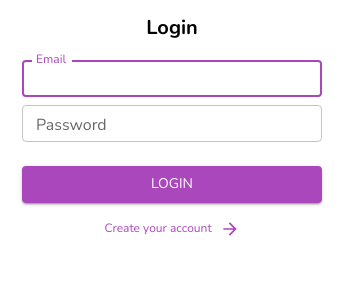
Scenario: Login Form › Remove error messages after user types any words › should remove "Email is required"
Click the button "login": click(172, 185) [22, 166, 322, 203]
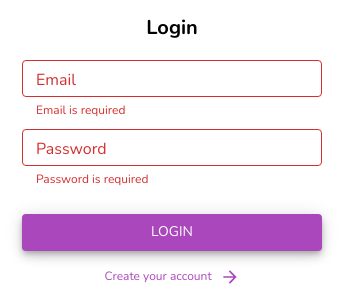
Expected: the text "Email is required" is shown, [36, 102, 125, 118]
In the field labelled "Email": (172, 79) [22, 60, 322, 97], type "c"
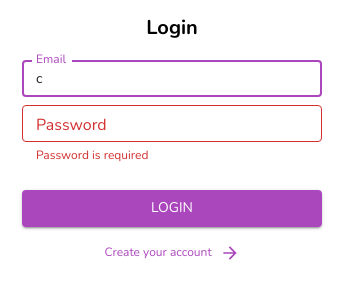
Expected: the text "Email is required" is gone
